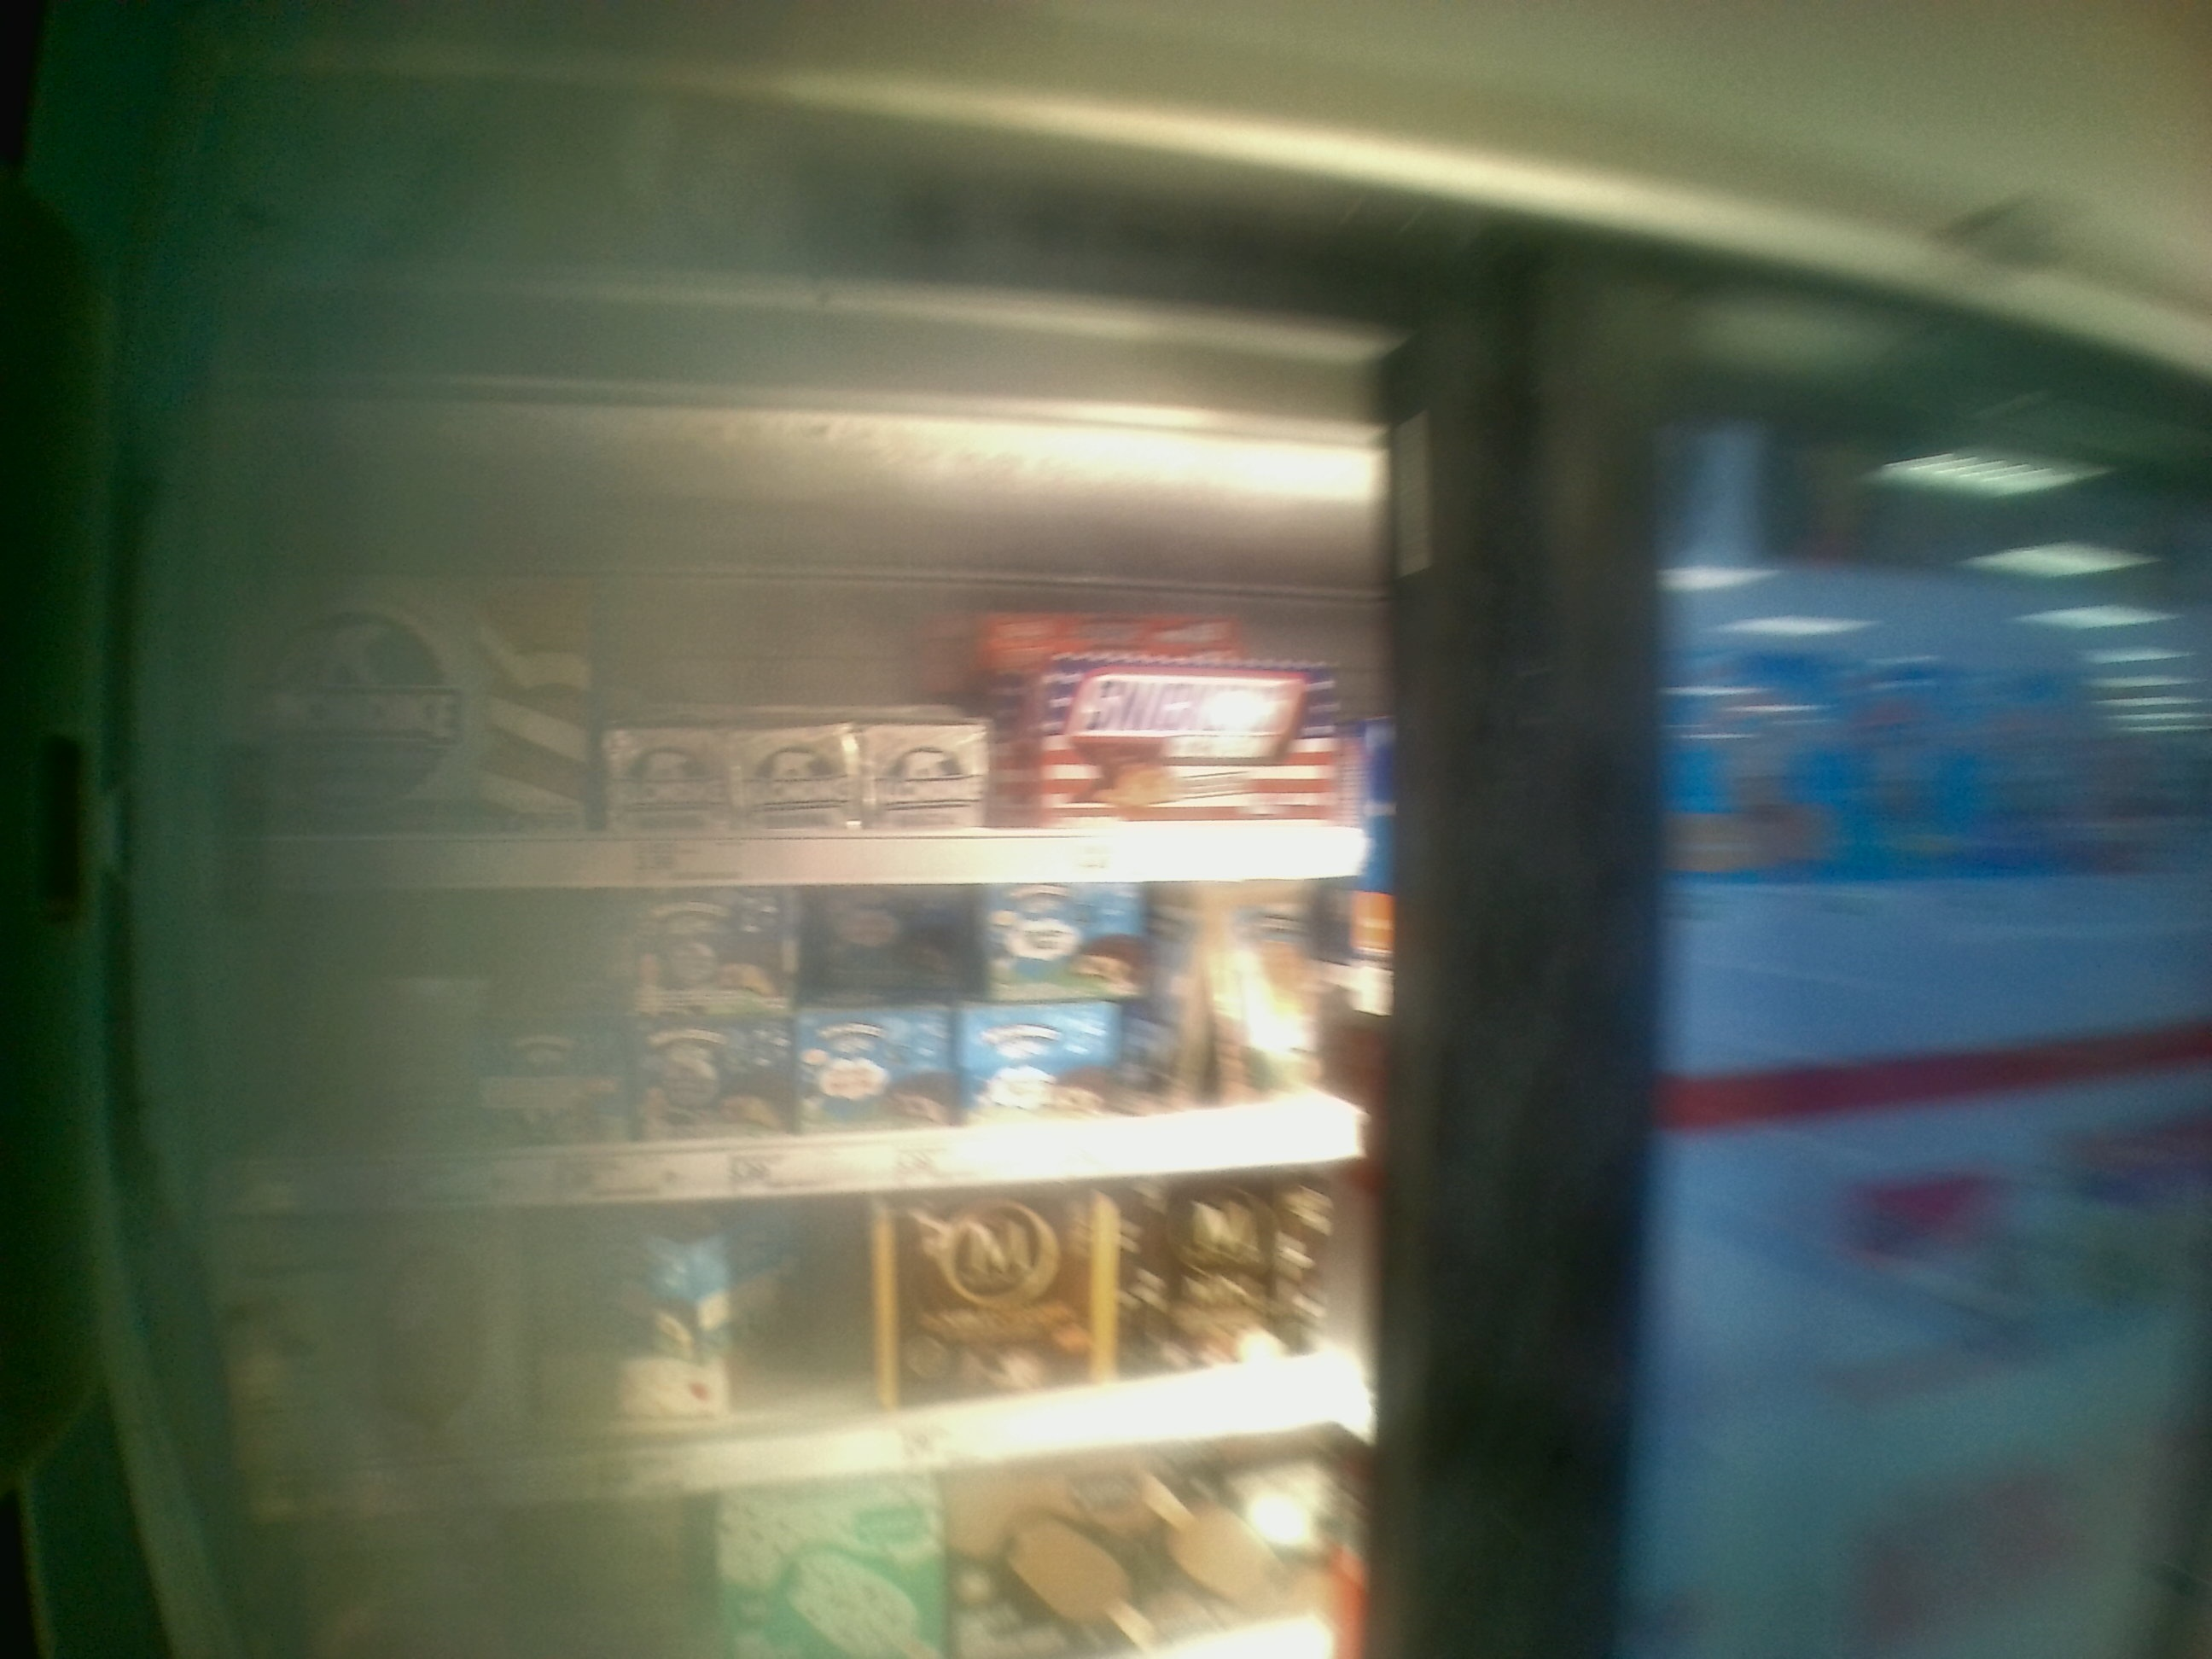ice-cream-shelf: (199, 884, 1383, 1225), (206, 545, 1390, 884)
